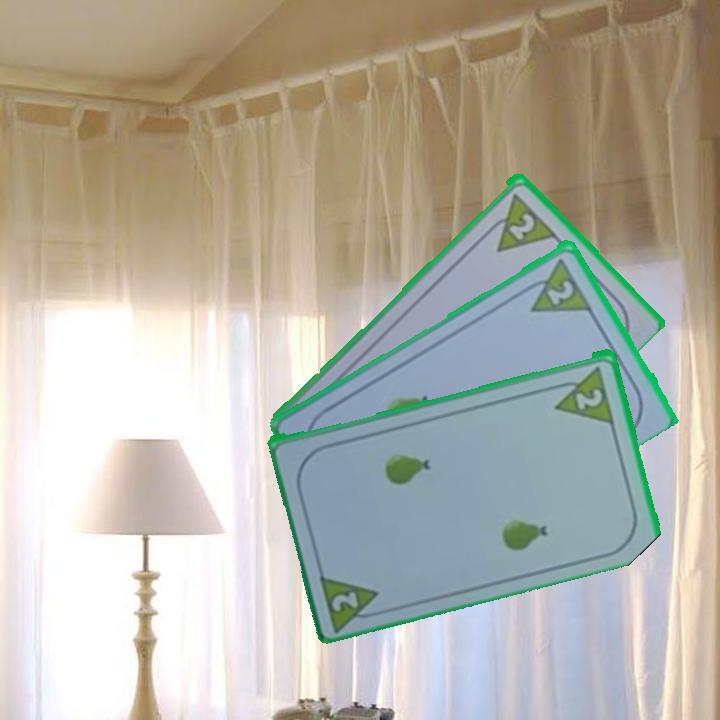2p: (479, 188, 558, 255), (543, 275, 577, 308), (572, 384, 606, 412), (328, 587, 362, 614)
